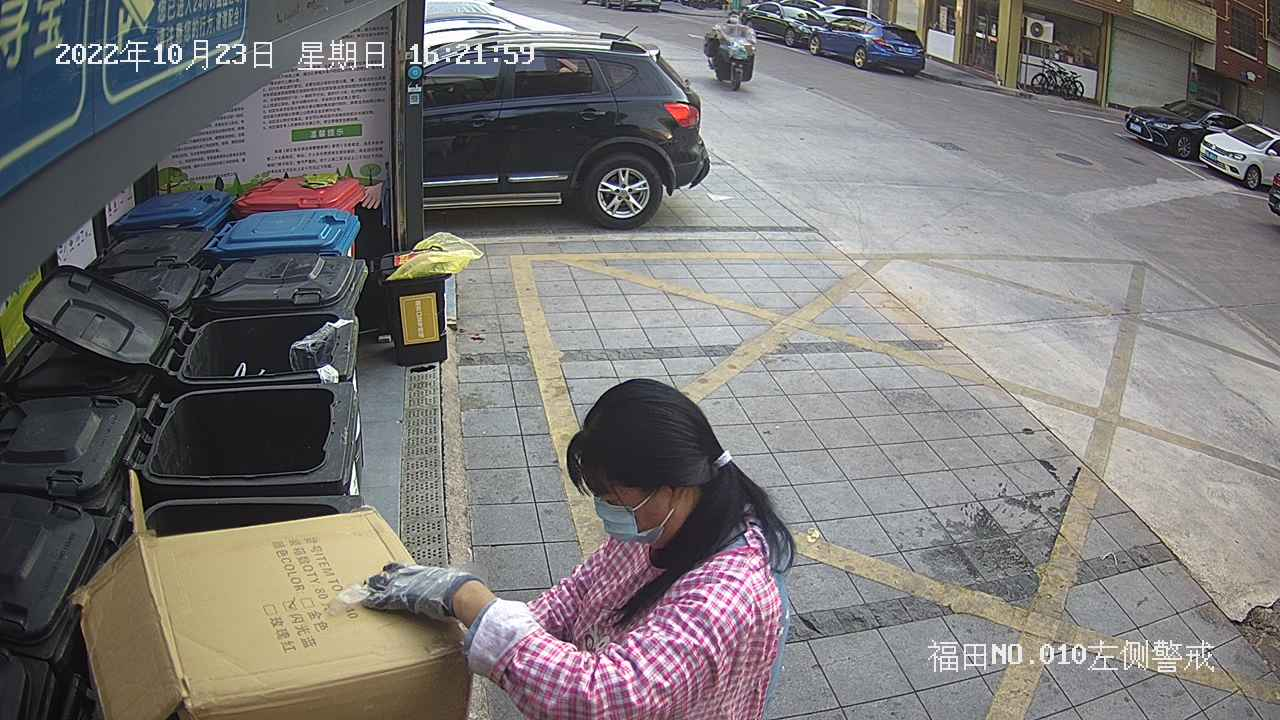person: (358, 373, 803, 720)
